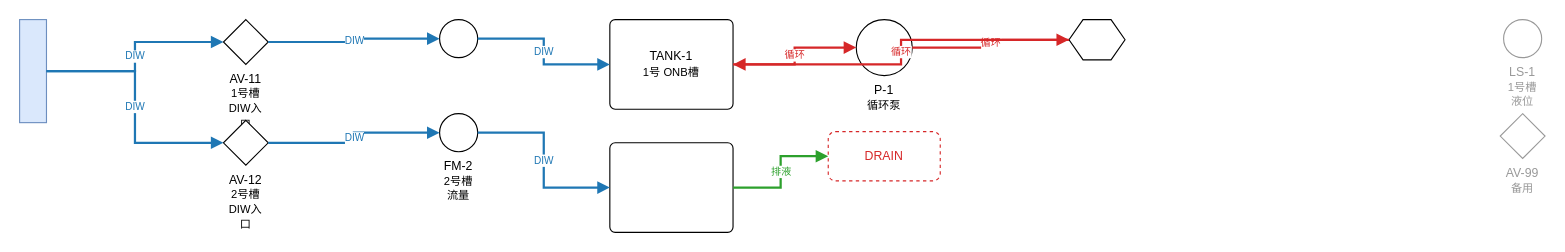
The diagram is 1565 pixels wide and 252 high, and some of its shapes have lost their labels. Each missing label, with the centre of its shape:
"DIW-H DIW供给" goes at pixel 32 70.
"F-1 循环过滤器" goes at pixel 1096 39.
"FM-1 1号槽流量" goes at pixel 458 38.
"TANK-2 2号 ONB槽" goes at pixel 671 187.
